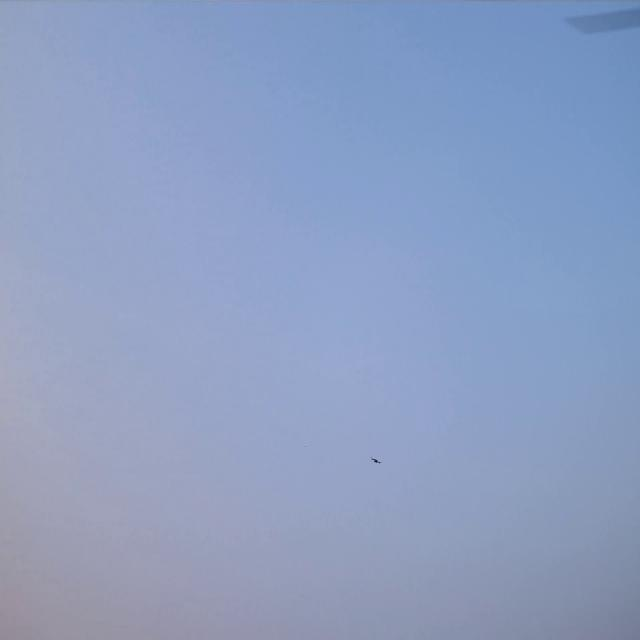UAV: (369, 457, 383, 464)
